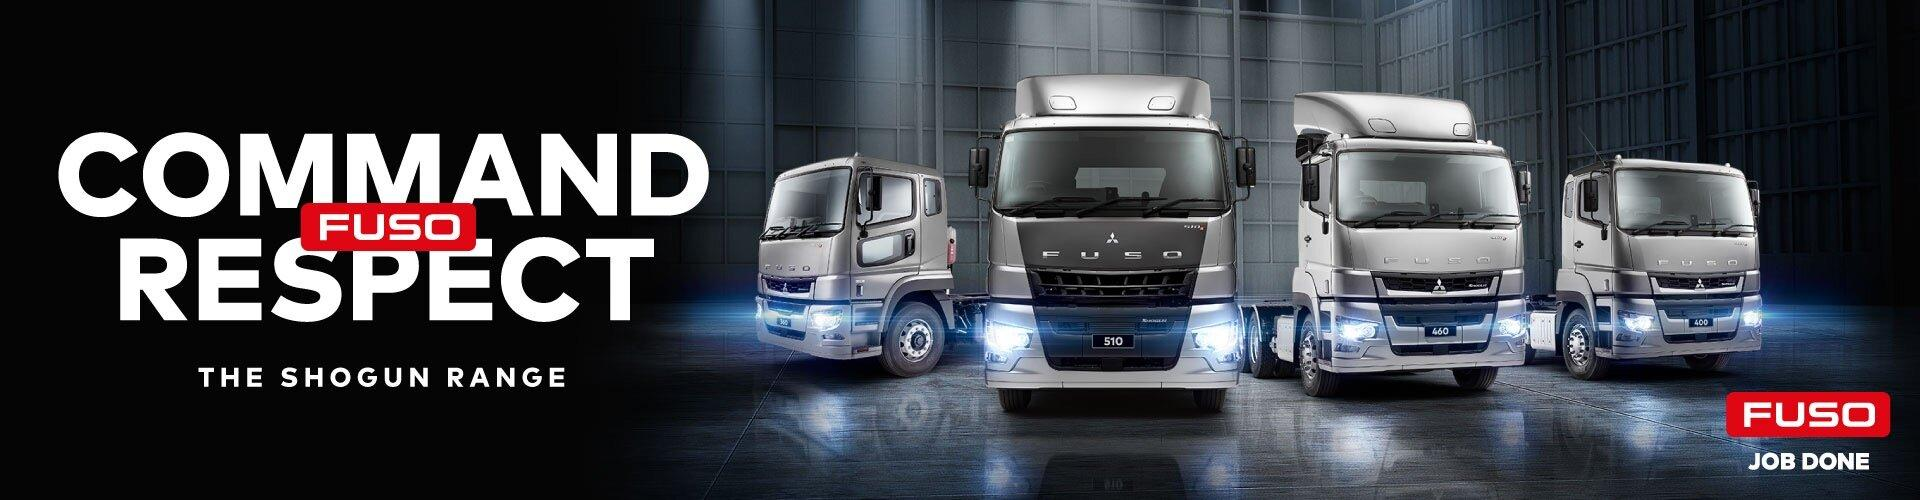truck: (969, 70, 1253, 414), (1229, 93, 1529, 400), (1527, 154, 1764, 377), (753, 150, 984, 375)
